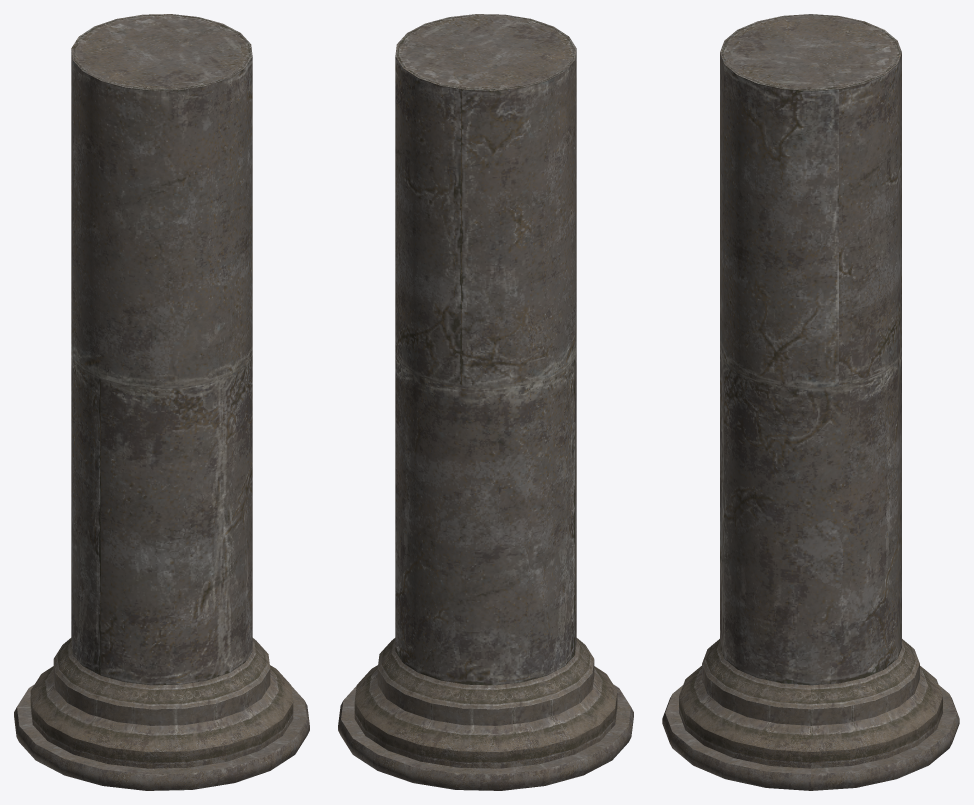
File: ColumnHalf.fbx
3 renders of one model, left to right at view 1: azimuth 30°, elevation 25°; view 2: azimuth 150°, elevation 25°; view 3: azimuth 270°, elevation 25°, orthographic.
Visible parts, largest first — view 1: Trim_Column_half; view 2: Trim_Column_half; view 3: Trim_Column_half.
Boxes of the visible parts, x1,y1,x2,y2 form: Trim_Column_half: (14, 14, 309, 790); Trim_Column_half: (338, 14, 633, 790); Trim_Column_half: (662, 14, 959, 790).
Size of the model in its own units: 163 by 410 by 163.
